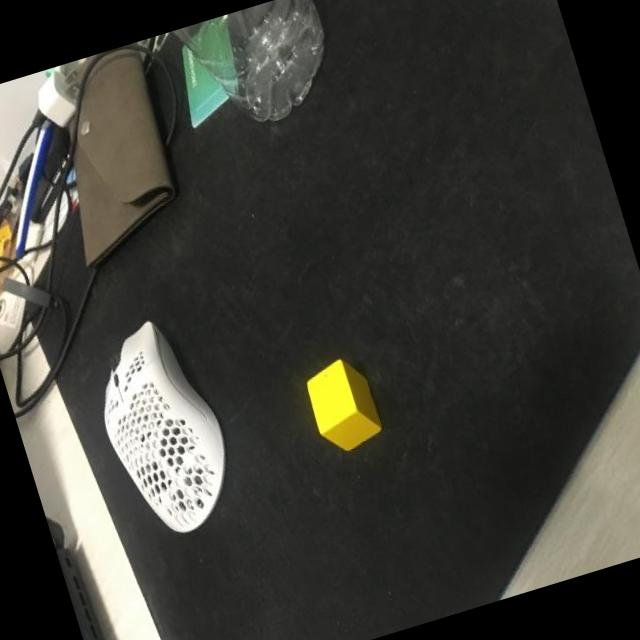yellow: (300, 353, 386, 456)
